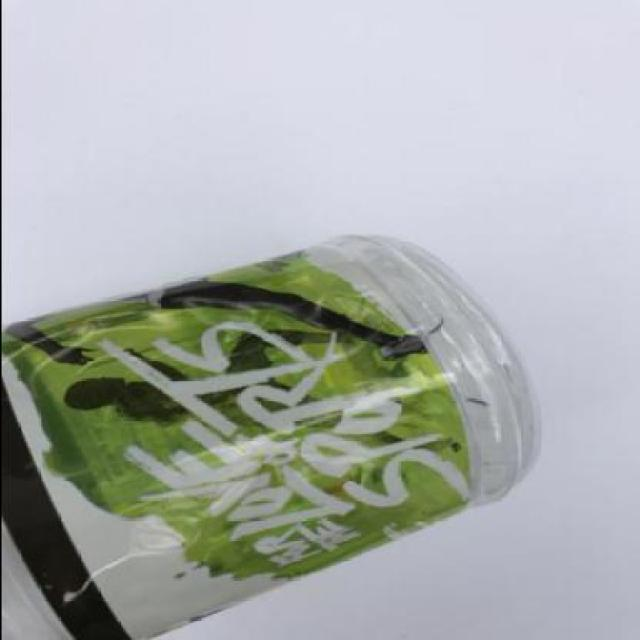PLASTIC: (2, 232, 540, 638), (2, 246, 470, 639)
